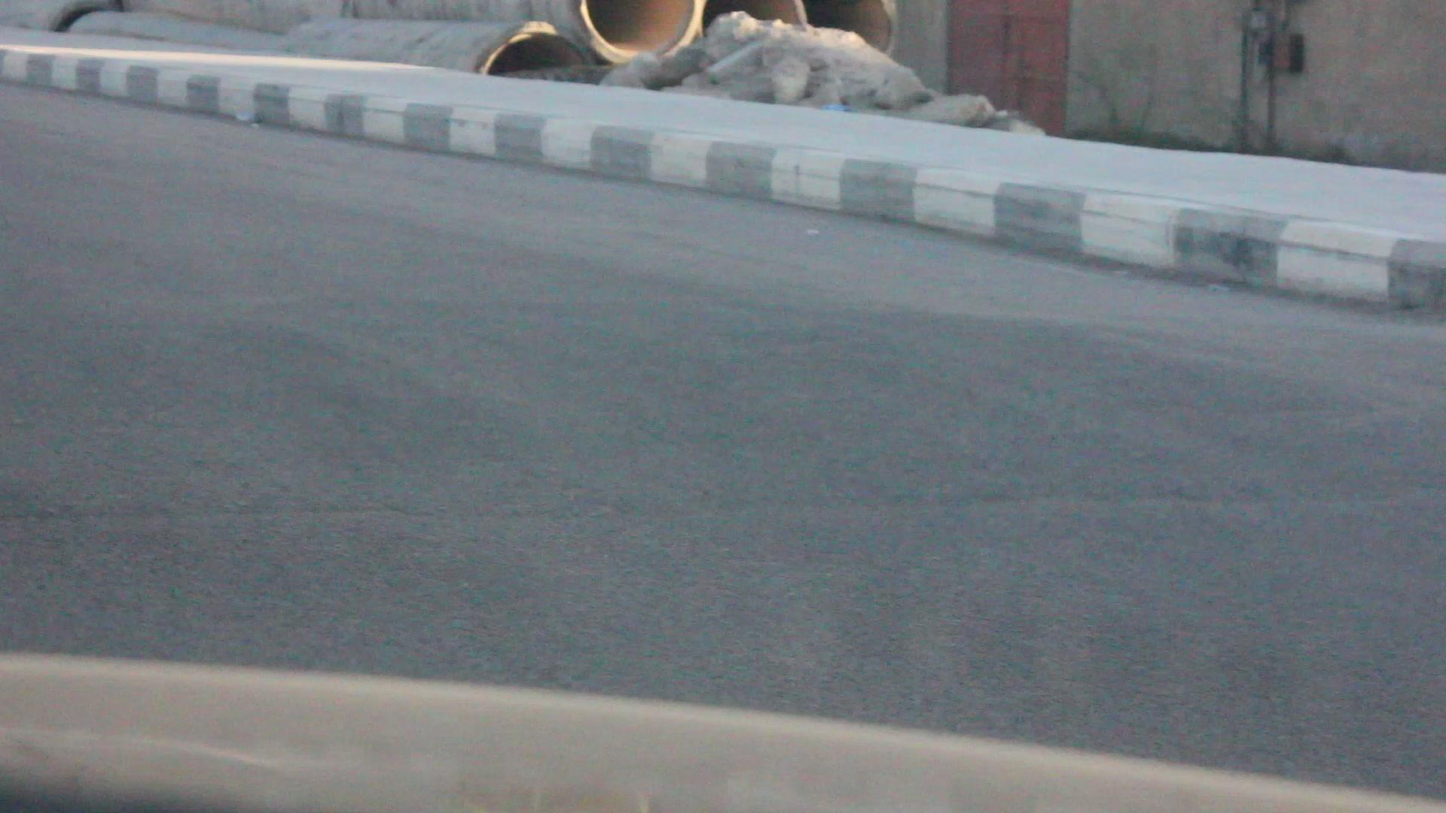Bump: (0, 254, 1445, 527)
